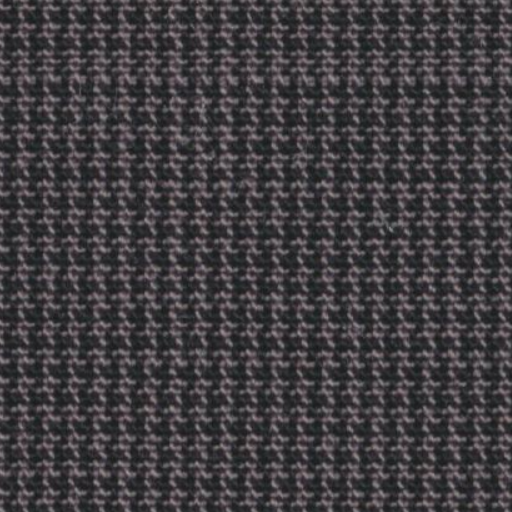TuoSha: (16, 26, 486, 131)
